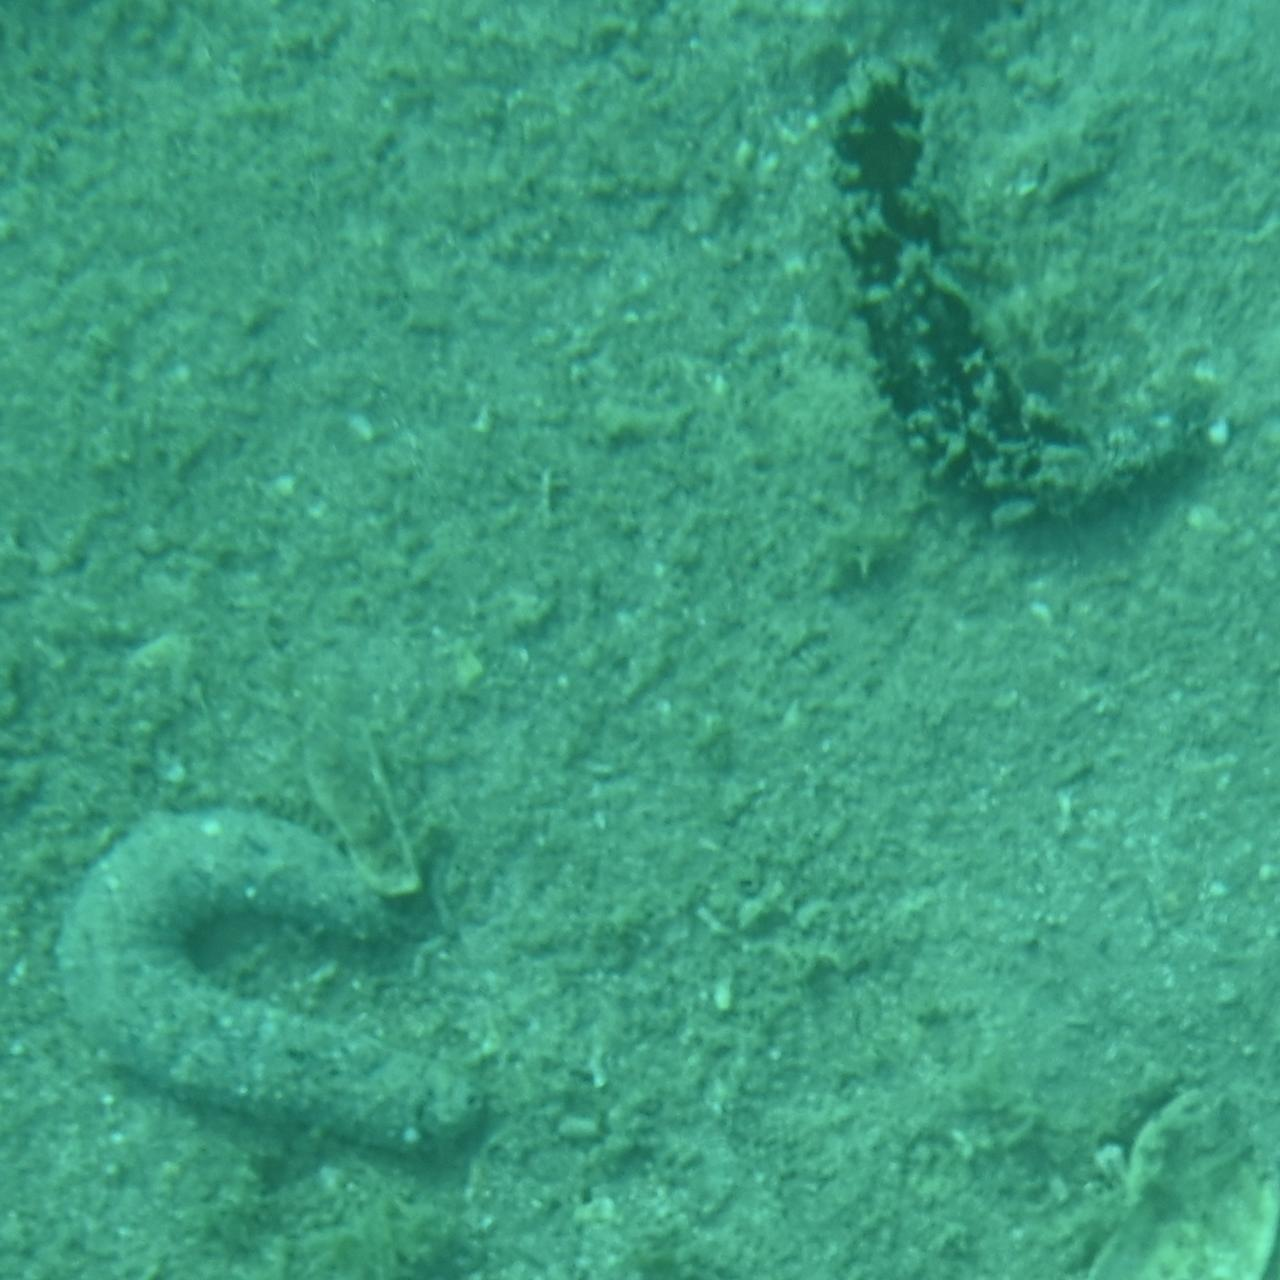Holothuria tubulosa: (835, 45, 1189, 553), (52, 821, 486, 1141)
